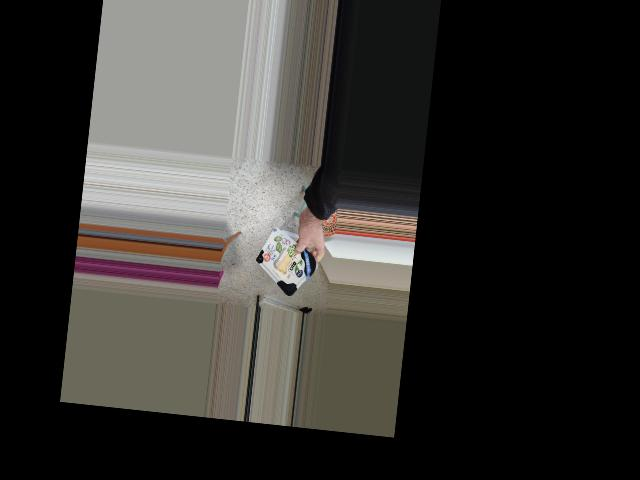cheese: (246, 229, 322, 297)
